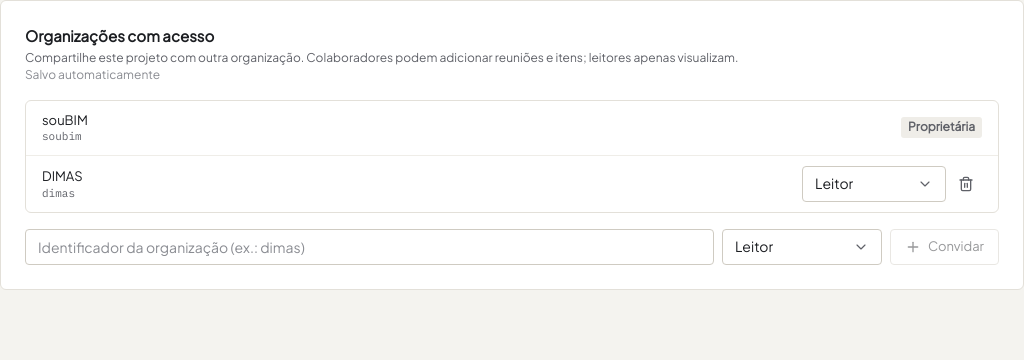
Test: Phase 4c · seções do projeto, versões e adicionar reunião › Organizações com acesso › explica um identificador que não existe
Type "nada" into the field labelled "Identificador da organização".
click(369, 247); type("nada")  # box [25,229,714,265]
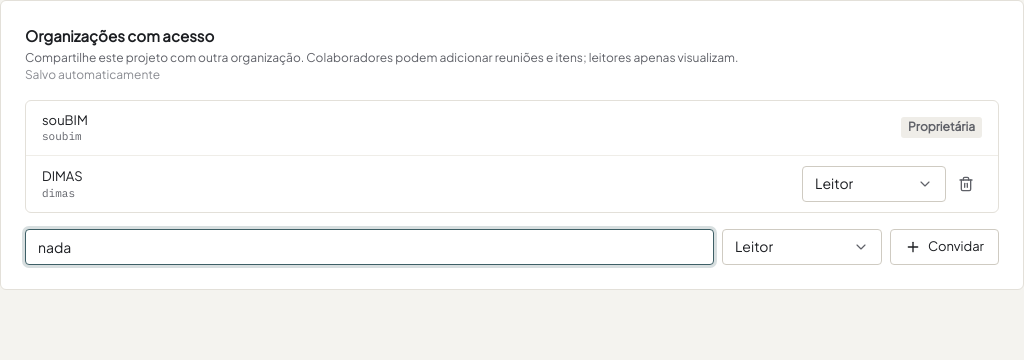
Click the button "Convidar".
click(944, 247)  # box [890,229,999,265]
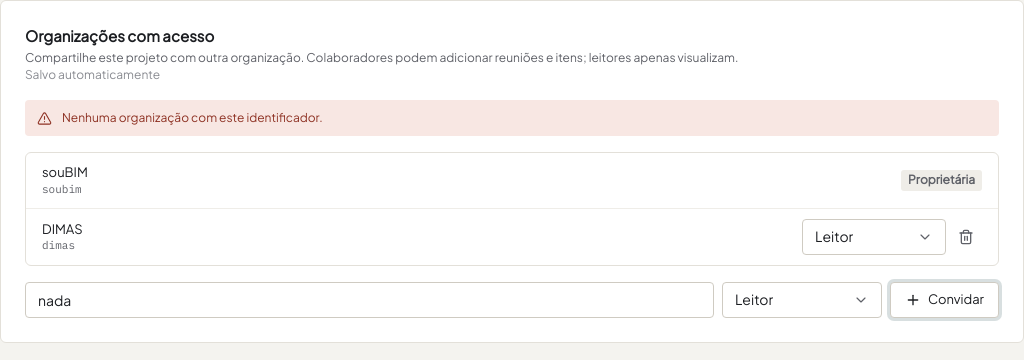
Check: the message reads "Nenhuma organização com este identificador.", box [62,110,323,125]
